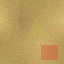structure: (27, 17, 44, 35)
vehicle: (40, 44, 57, 59)
